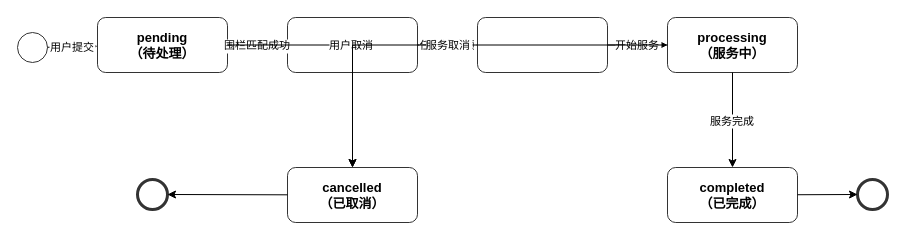
Image size: 906x240. Some labels were removed from this diagram. The shapes that lost their labels are listed below. From the top down, each one's centre as x and y in pixels, then its label:
At (352,44): "dispatched （已派单）".
At (542,44): "claimed （已认领）".
